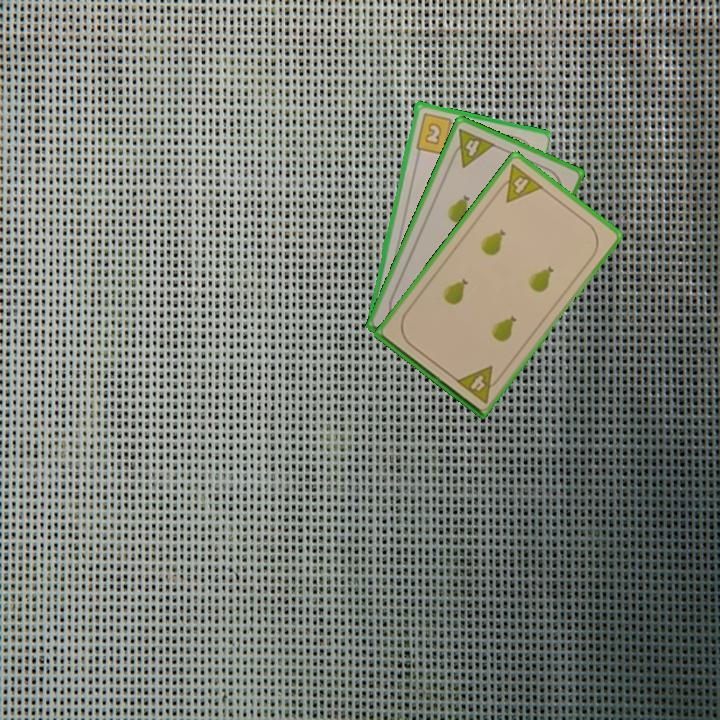2b: (412, 109, 460, 156)
4p: (492, 160, 546, 205), (446, 125, 498, 170), (452, 362, 505, 406)
